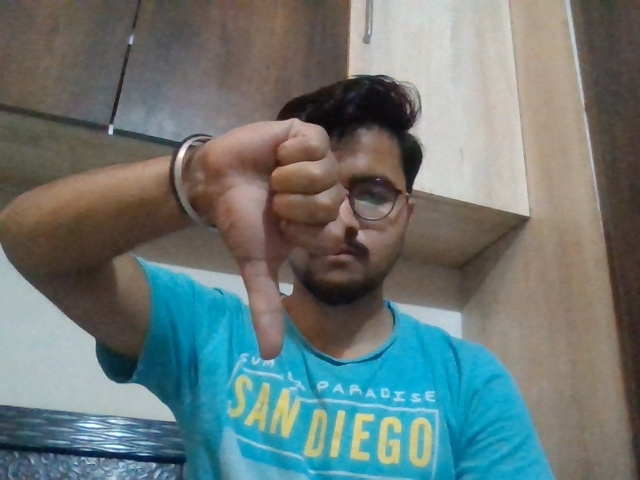no: (182, 106, 360, 374)
